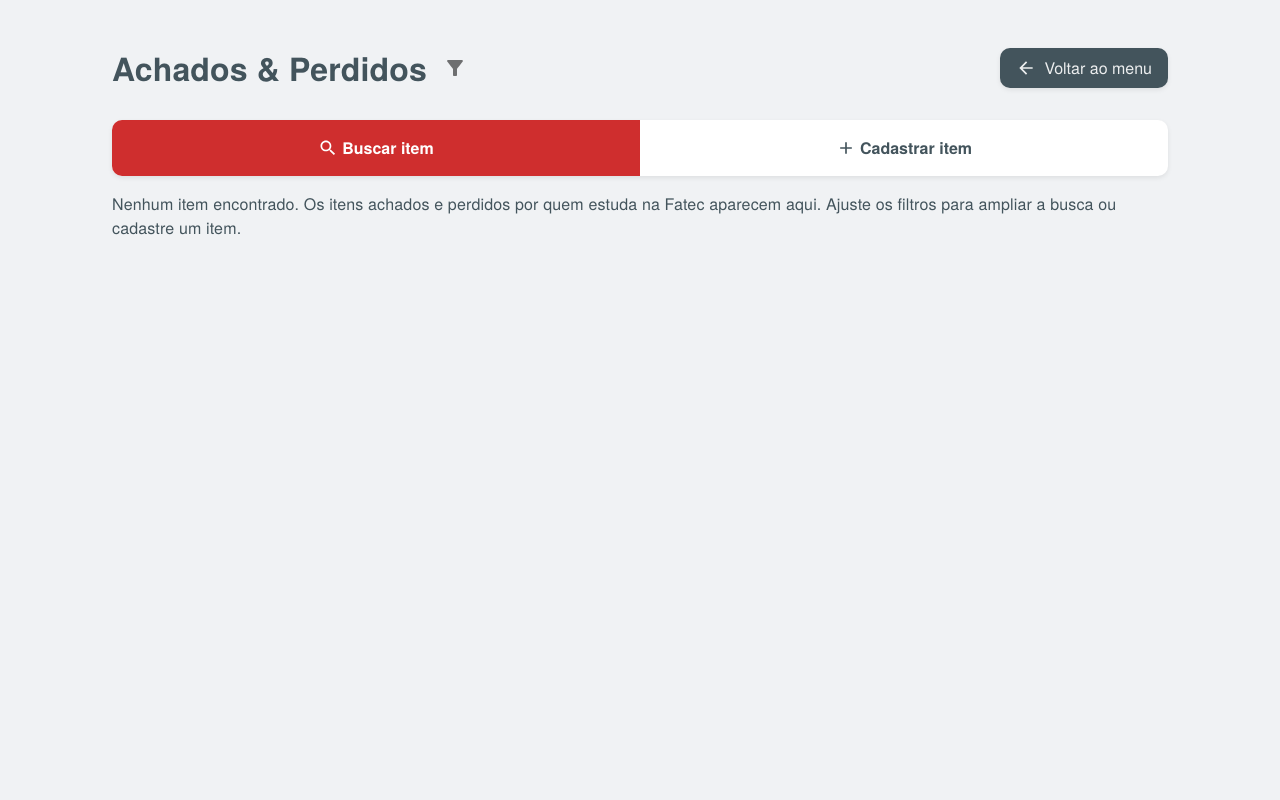
Scenario: LostAndFound › should hand the board back to the open items when the filter is cleared
The image size is (1280, 800).
expect the text "Nenhum item encontrado. Os itens achados e perdidos por quem estuda na Fatec aparecem aqui. Ajuste os filtros para ampli" is shown: met, box x1=112 y1=192 x2=1116 y2=239
Click the button named "Filtros" at (455, 68), box x1=435 y1=48 x2=475 y2=88
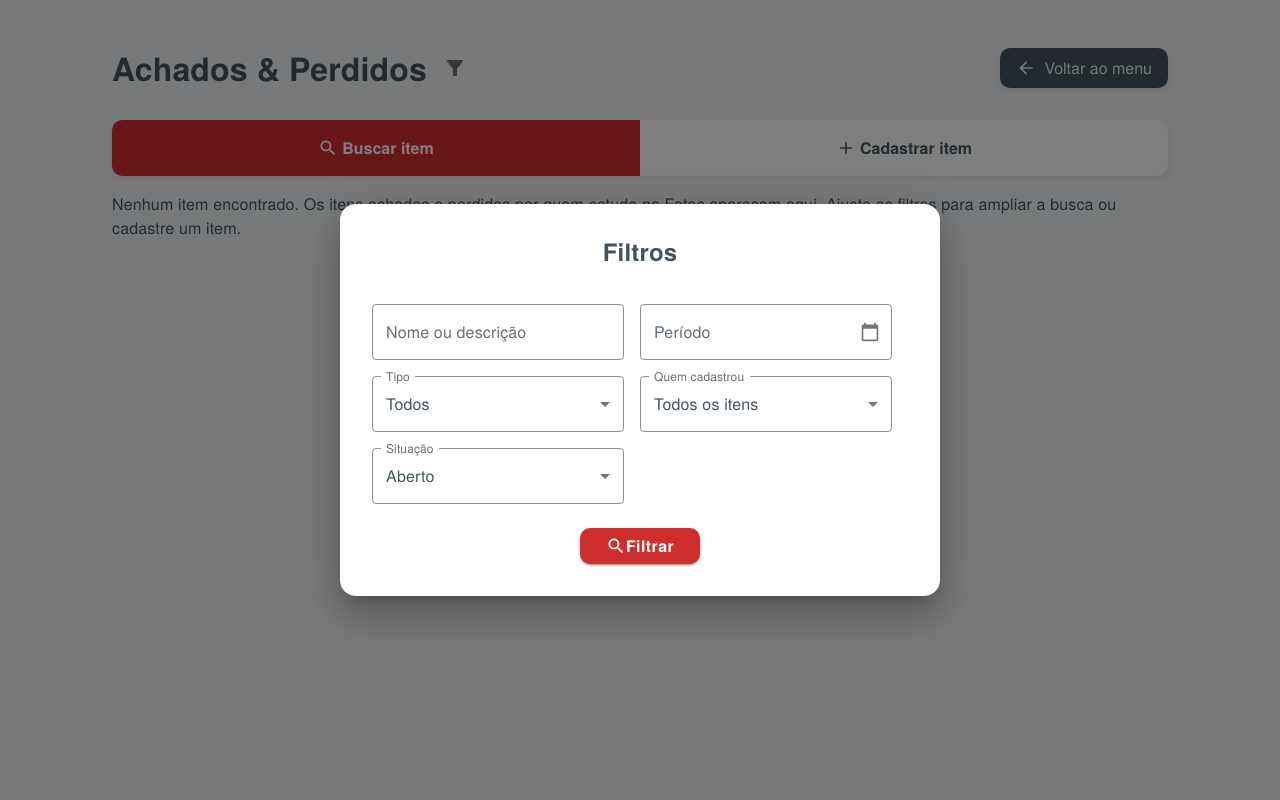
expect the dialog is shown: met, box x1=340 y1=204 x2=940 y2=596
Type "Carteira" into the field labelled "Nome ou descrição" at (498, 332), box x1=372 y1=304 x2=624 y2=360
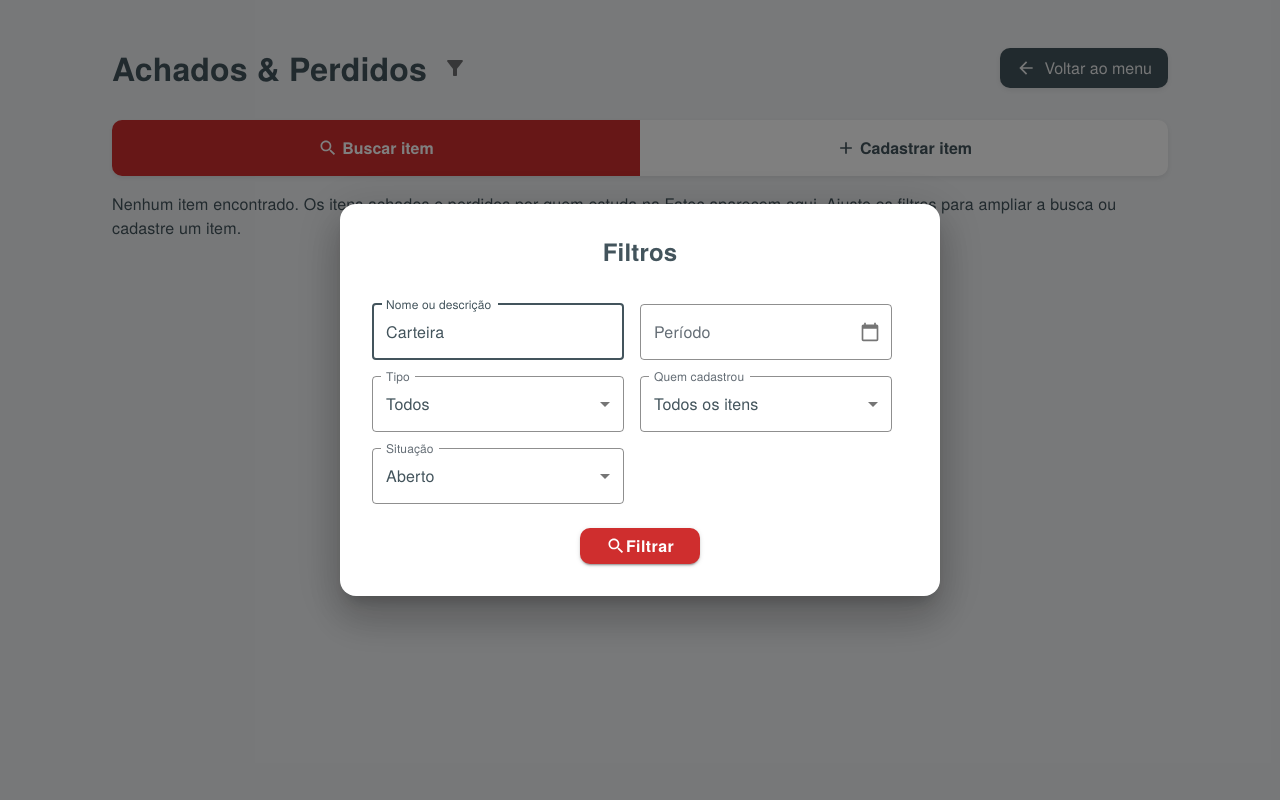
Click the button "Filtrar" at (640, 546), box x1=580 y1=528 x2=700 y2=564
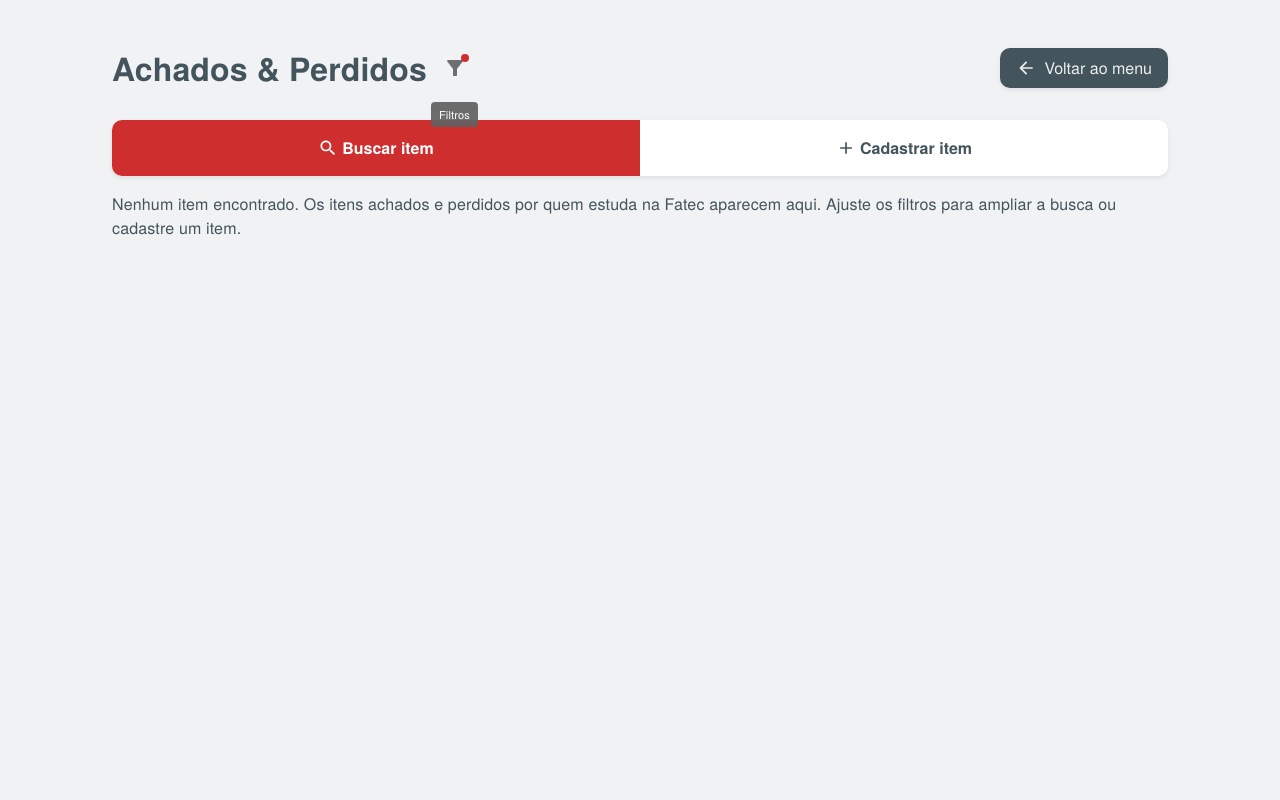
expect the dialog is gone: met
Click the button named "Filtros" at (455, 68), box x1=435 y1=48 x2=475 y2=88
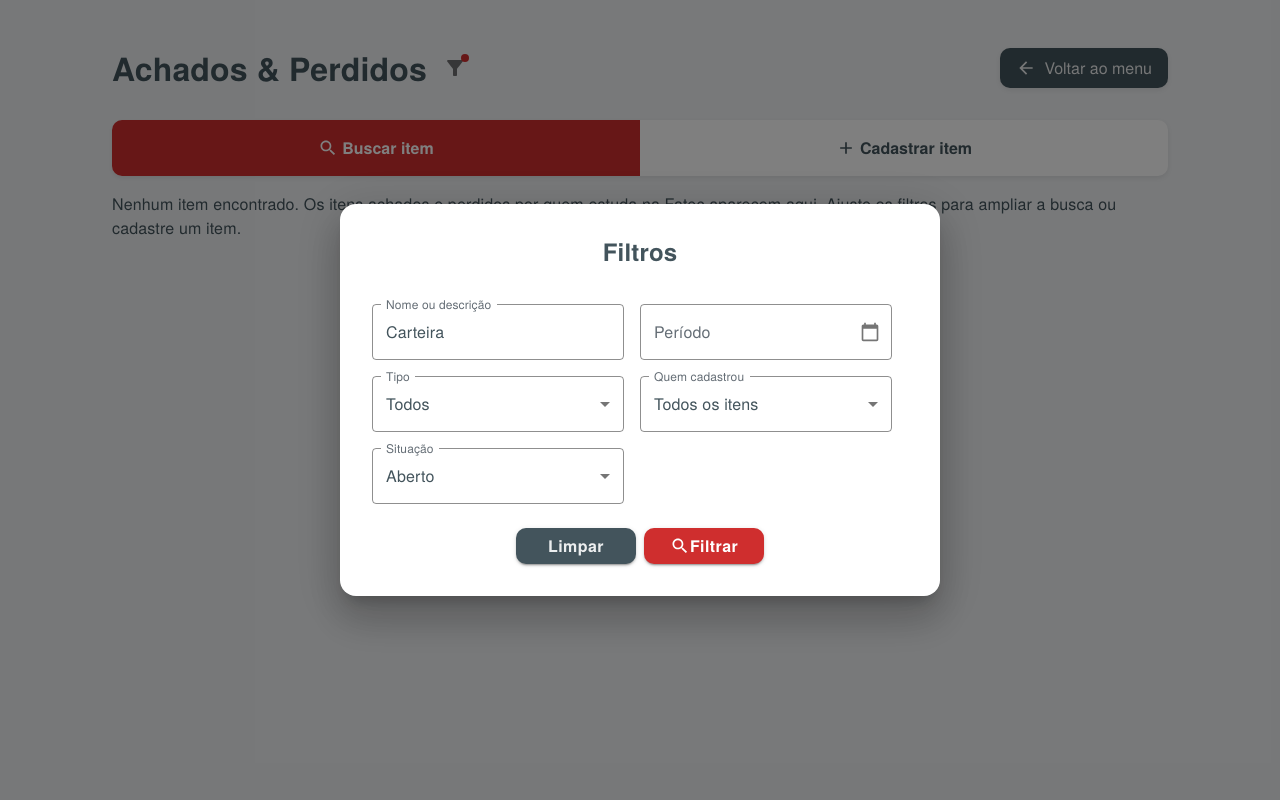
expect the dialog is shown: met, box x1=340 y1=204 x2=940 y2=596
Click the button "Limpar" at (576, 546), box x1=516 y1=528 x2=636 y2=564
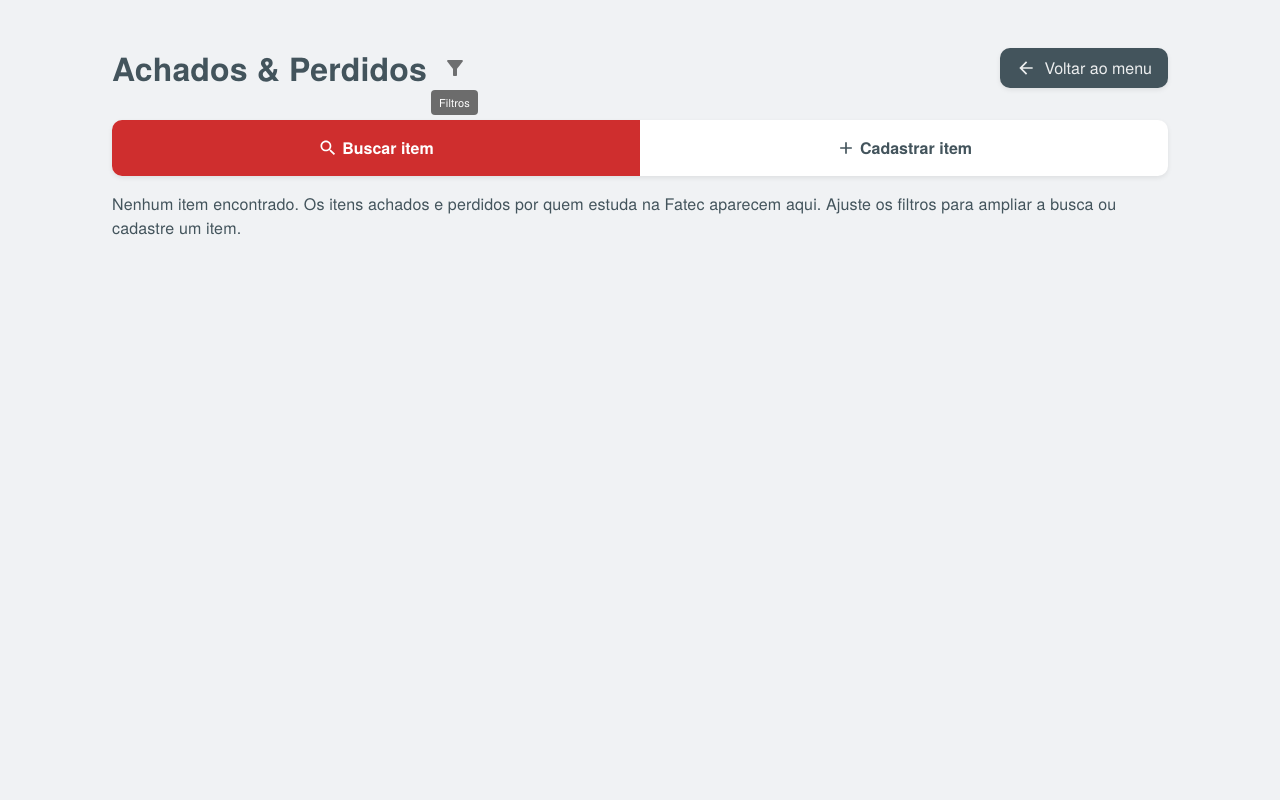
expect the dialog is gone: met
